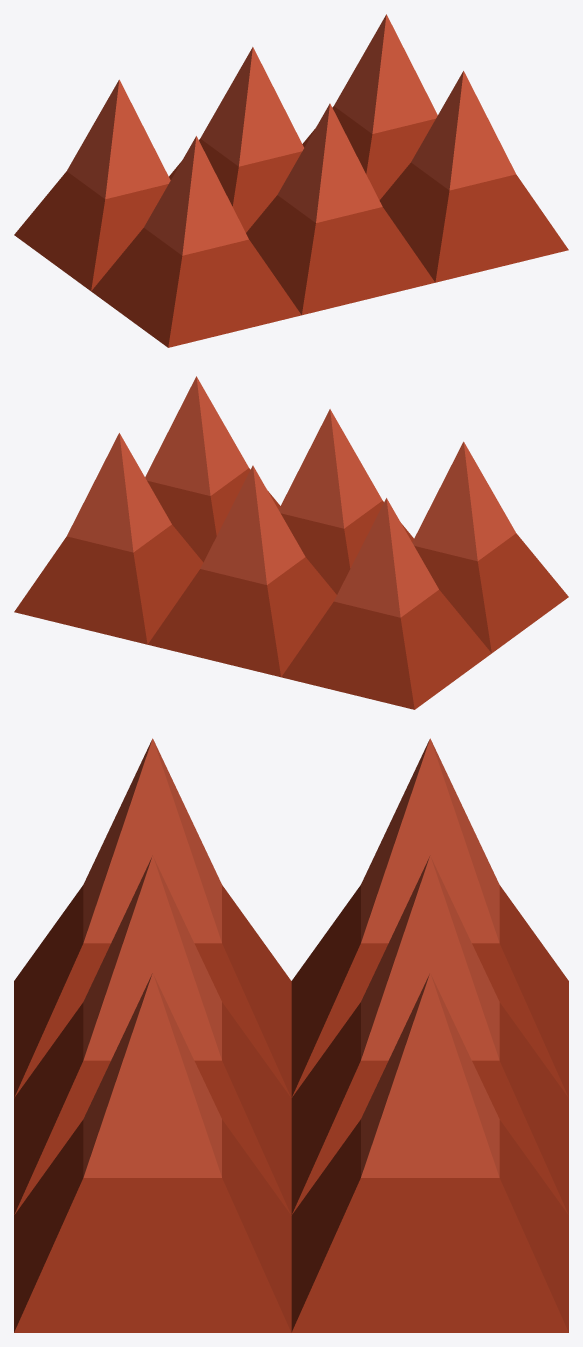
Rendered from spikes.fbx.
3 renders of one model, top to bottom at view 1: azimuth 30°, elevation 25°; view 2: azimuth 150°, elevation 25°; view 3: azimuth 270°, elevation 25°, orthographic. The views are drawn at different scales.
Parts seen in each view (by area): view 1: Cube; view 2: Cube; view 3: Cube.
Part boxes in pixels (x1,y1,x2,y2): Cube: [14, 14, 568, 347]; Cube: [14, 376, 568, 709]; Cube: [14, 738, 568, 1332].
Bounding box in the file's own units: 3 × 2 × 1.2.
